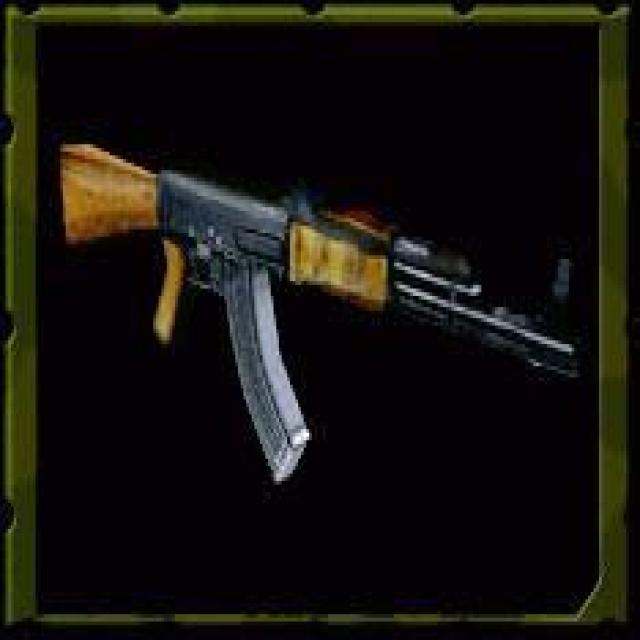Gun: (50, 108, 582, 488)
